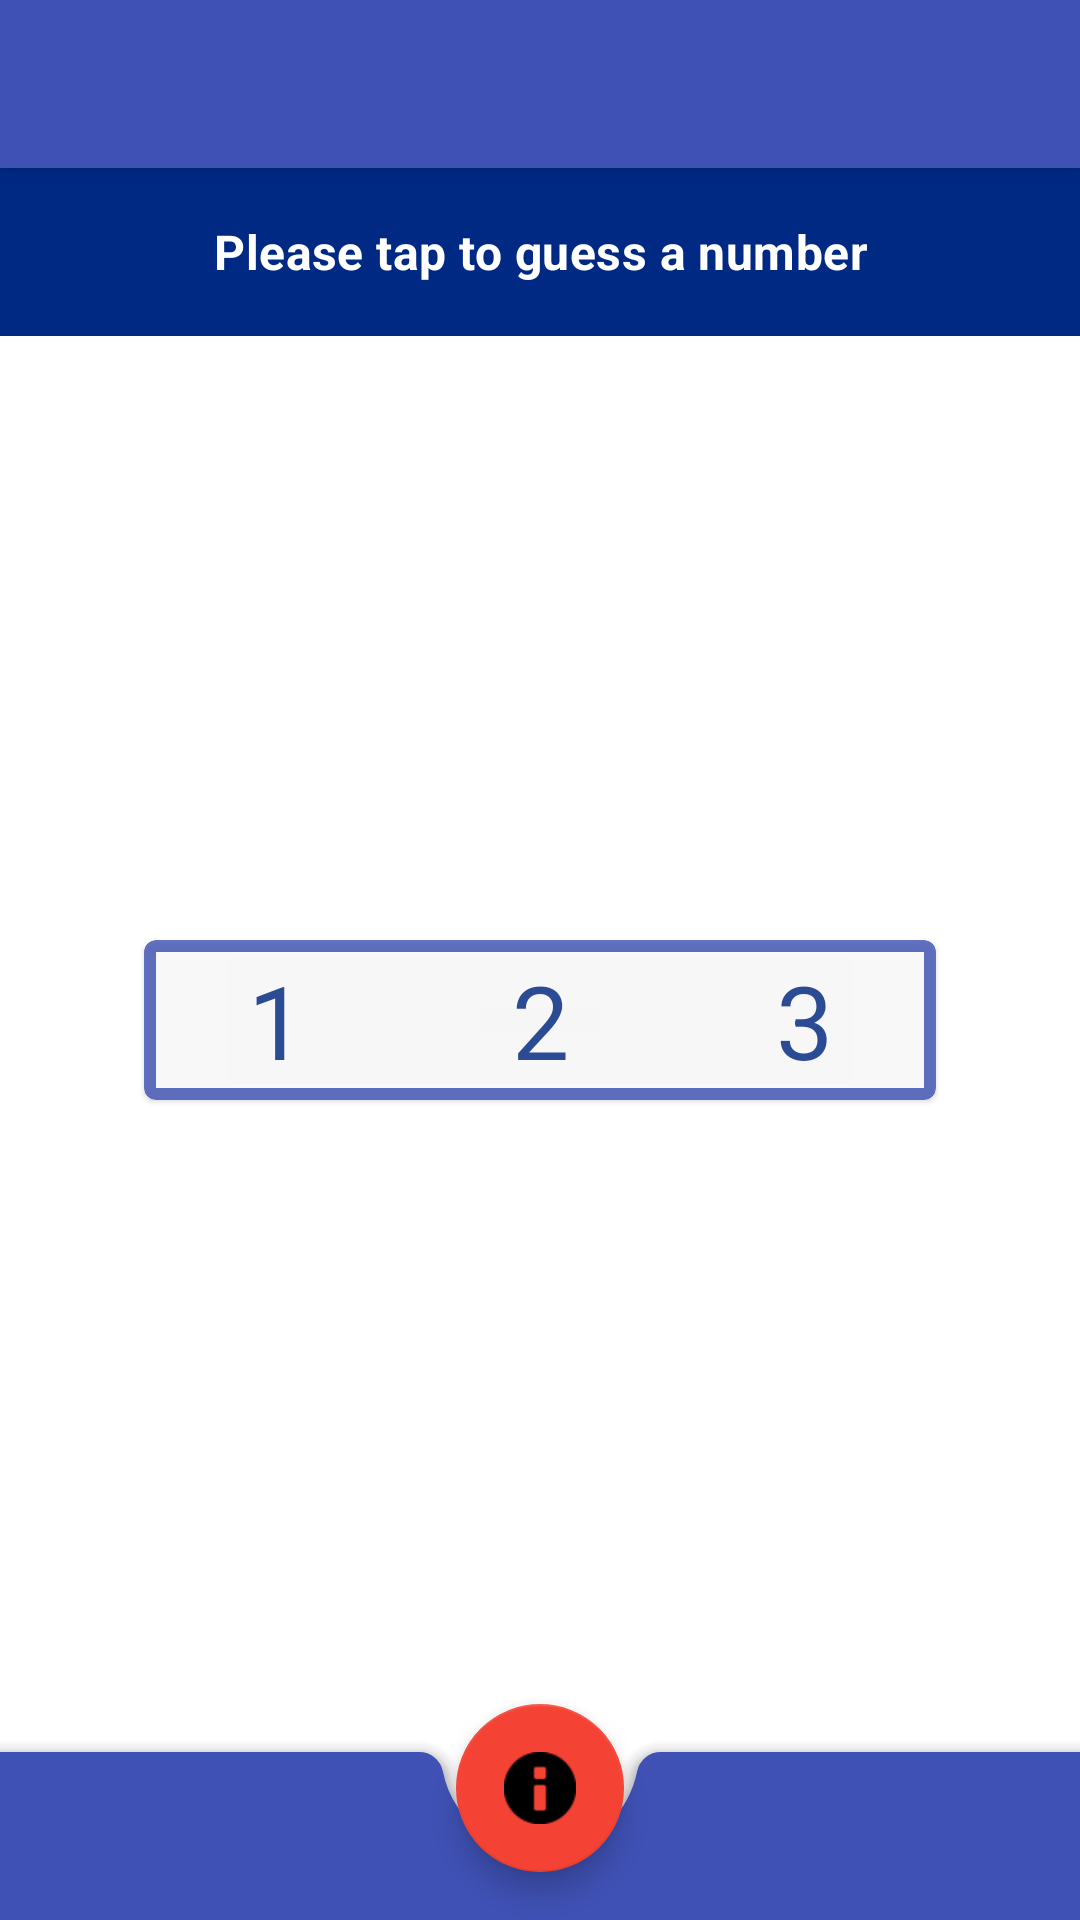

Icon click points for this 1080 × 1920 phone screenshot, format [x,y]:
info: [540,1788]
